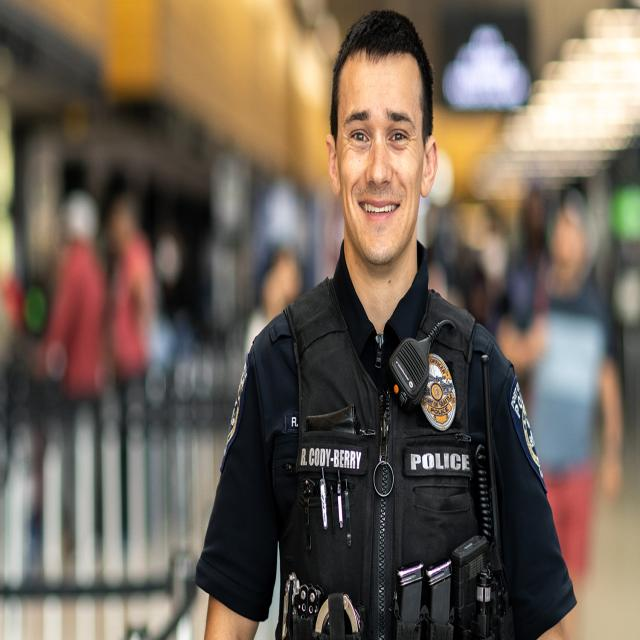police: (214, 16, 591, 640)
